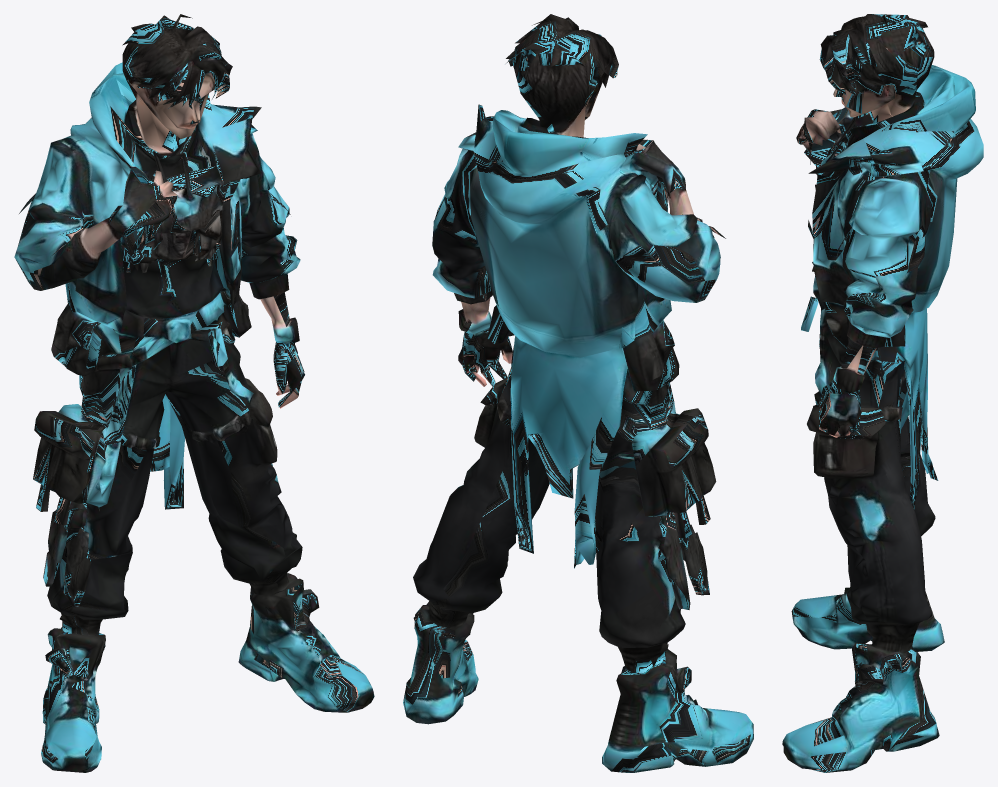
The model's file is zane-lo.glb.
3 views of the same model, side by side, from view 1: azimuth 30°, elevation 25°; view 2: azimuth 150°, elevation 25°; view 3: azimuth 270°, elevation 25° (orthographic). The views are drawn at different scales.
Visible parts, largest first — view 1: model; view 2: model; view 3: model.
Boxes of the visible parts, x1=… form: model: x1=14, y1=14, x2=374, y2=772; model: x1=403, y1=14, x2=753, y2=772; model: x1=782, y1=14, x2=983, y2=772.
Size of the model in its own units: 0.8985 by 1.9 by 0.5048.
Materials: 1 (1 with a texture image).
